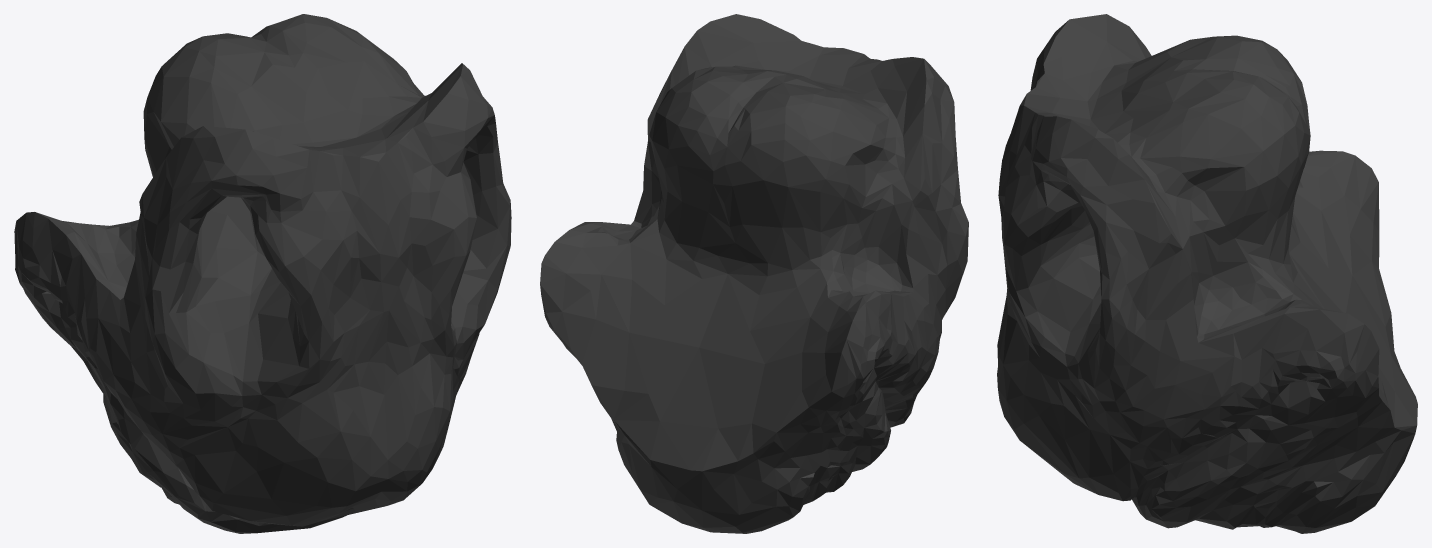
File: details_head_muzzle.glb
3 renders of one model, left to right at view 1: azimuth 30°, elevation 25°; view 2: azimuth 150°, elevation 25°; view 3: azimuth 270°, elevation 25°, orthographic. The views are drawn at different scales.
Parts seen in each view (by area): view 1: details_head_muzzle; view 2: details_head_muzzle; view 3: details_head_muzzle.
Boxes of the visible parts, x1,y1,x2,y2 form: details_head_muzzle: [14, 14, 511, 533]; details_head_muzzle: [540, 14, 968, 533]; details_head_muzzle: [997, 14, 1417, 533].
Size of the model in its own units: 0.00214 by 0.00259 by 0.00216.
Materials: 1 (1 with a texture image).
